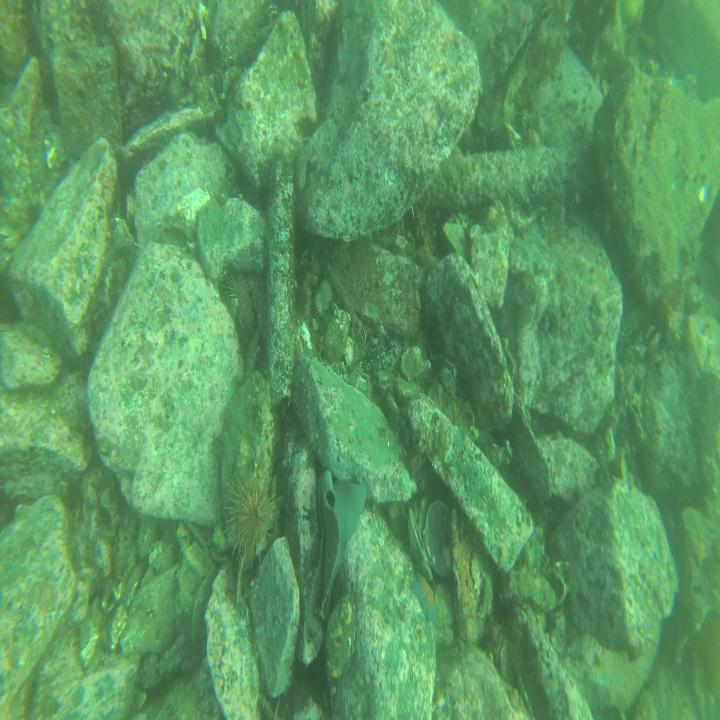echinus: (218, 474, 278, 558), (222, 269, 255, 337), (538, 0, 575, 35)
scallop: (406, 498, 456, 583)
starfish: (410, 572, 438, 626)
